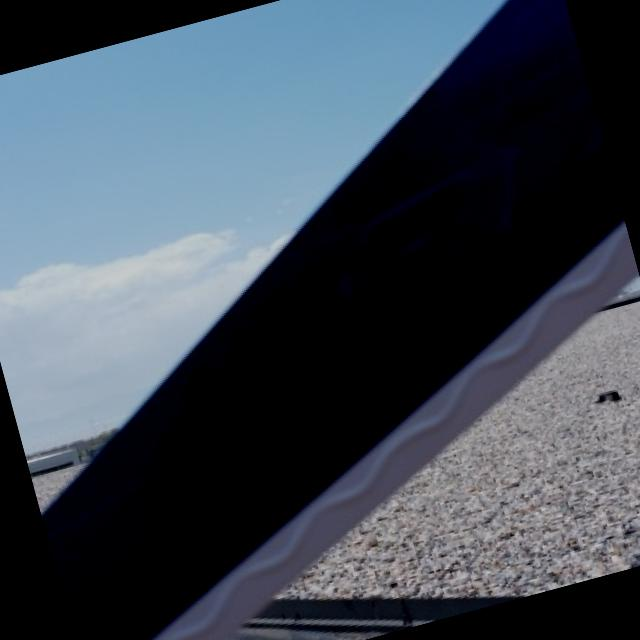healthy: (42, 0, 634, 640)
